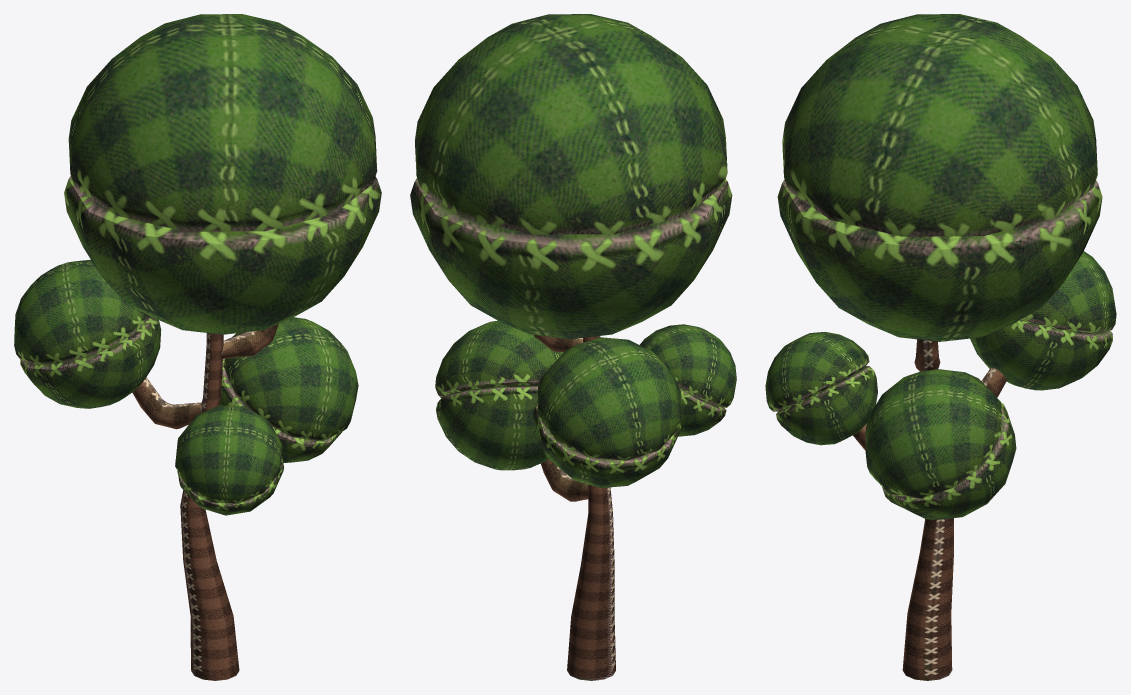
File: lpb_cs_tree19.fbx
3 views of the same model, side by side, from view 1: azimuth 30°, elevation 25°; view 2: azimuth 150°, elevation 25°; view 3: azimuth 270°, elevation 25° (orthographic). The views are drawn at different scales.
Visible parts, largest first — view 1: lpb_cs_tree19; view 2: lpb_cs_tree19; view 3: lpb_cs_tree19.
Boxes of the visible parts, box(x1,y1,x2,y2) form: lpb_cs_tree19: box(14, 14, 381, 680); lpb_cs_tree19: box(410, 14, 736, 680); lpb_cs_tree19: box(765, 14, 1116, 680).
Bounding box in the file's own units: 97.81 × 205 × 101.
